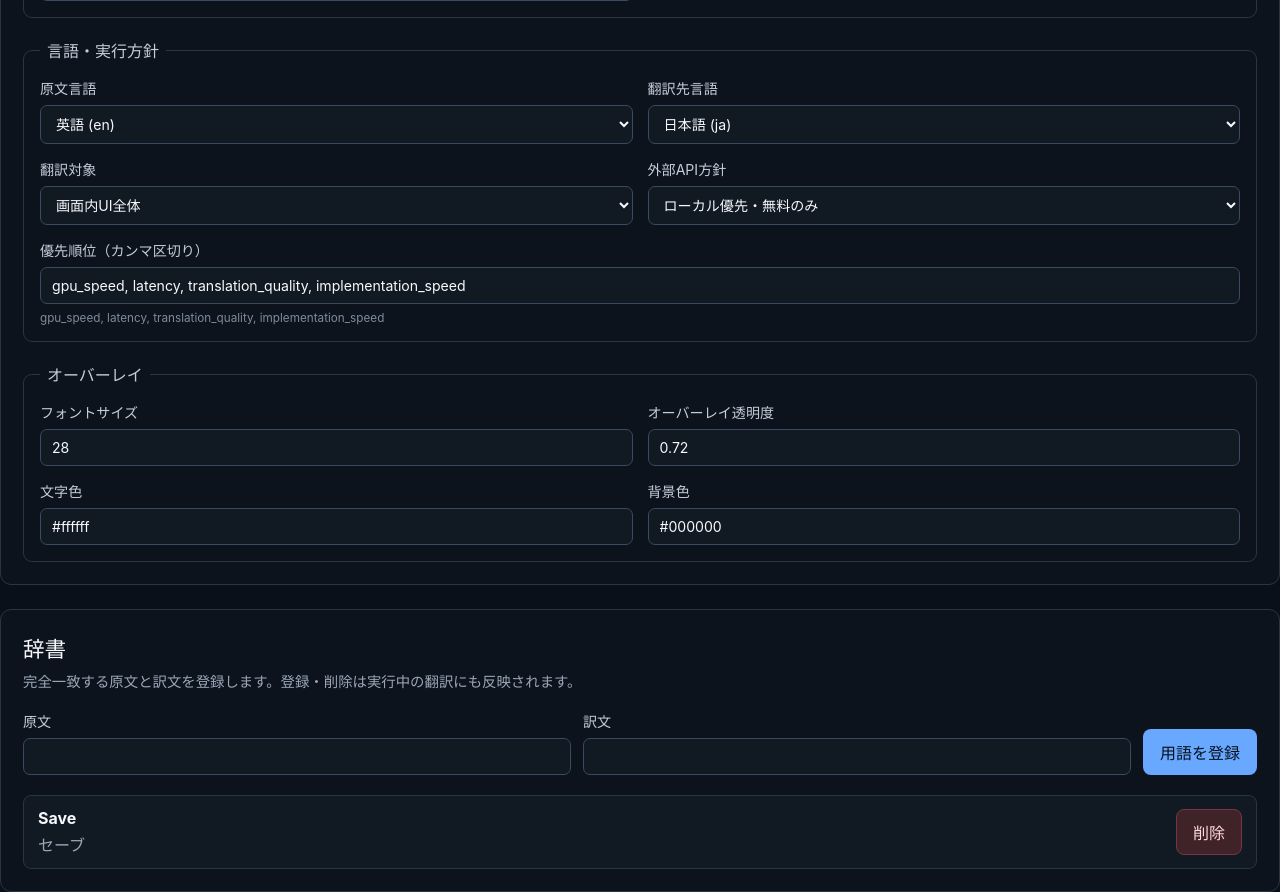
SettingsPanel › 削除の404エラーを表示し、一覧を再取得して存在しない項目を除く
(page scrolled)
Click the button with aria-label "Save を削除" at (1209, 832), box 1176,809 -> 1242,855
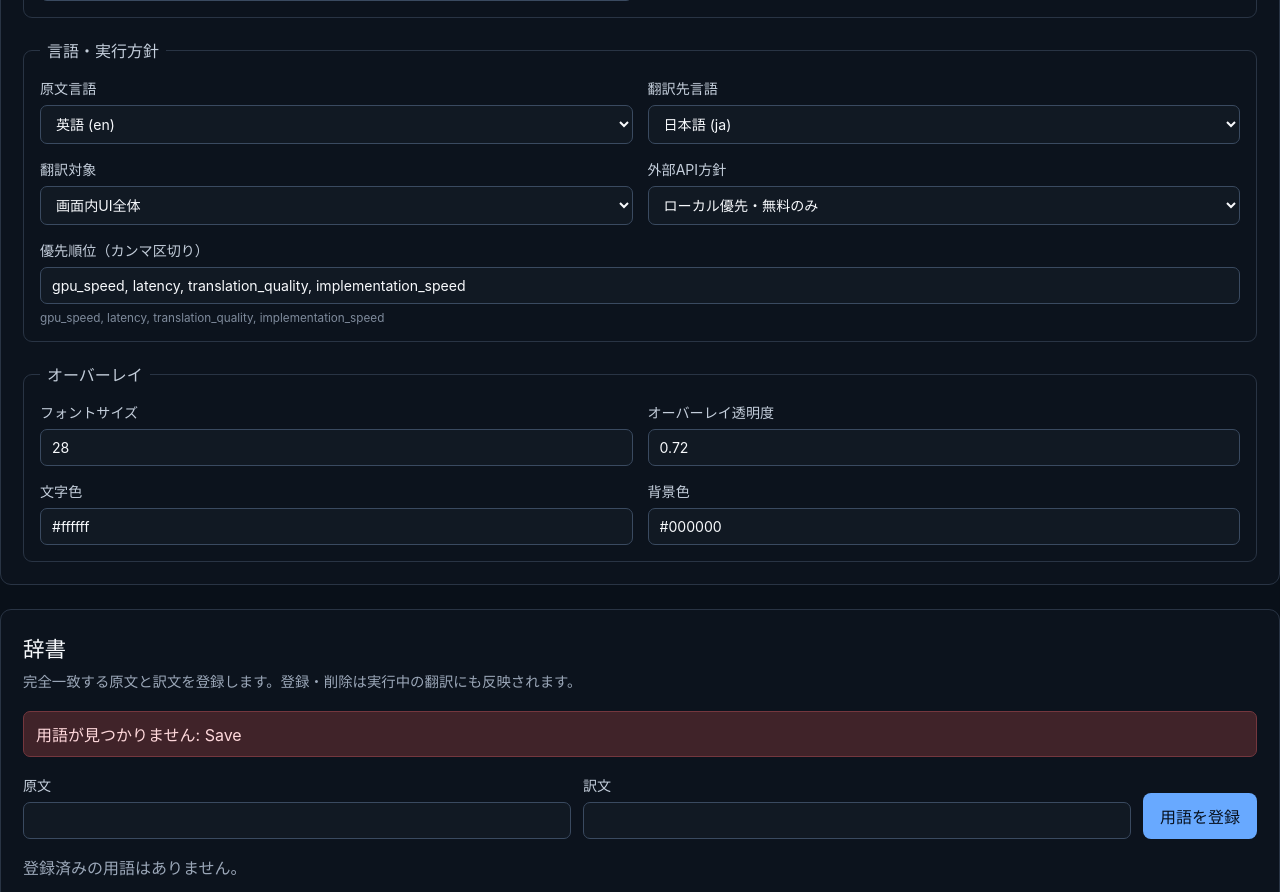
Check: the message reads "用語が見つかりません: Save", box 36,725 -> 242,745
